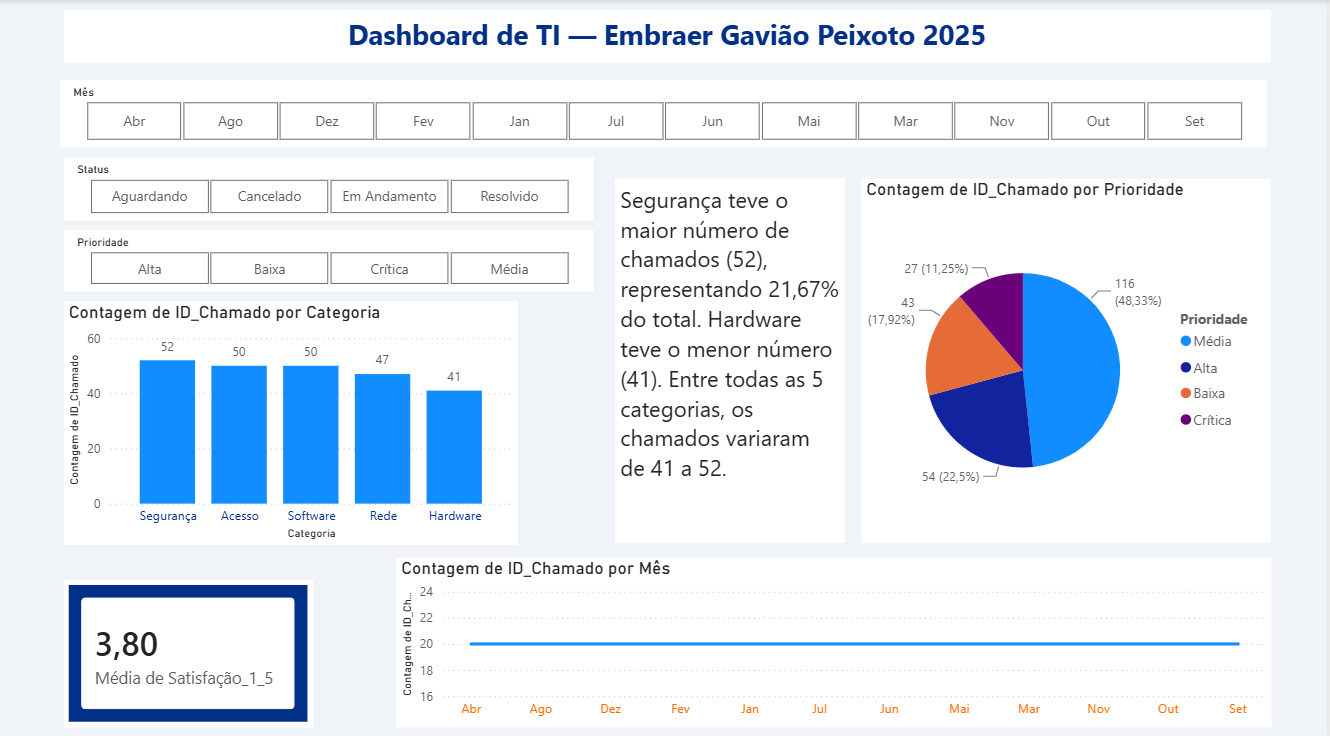

This screenshot's page, from the dashboard's own definition file:
{"tool":"powerbi","page":{"name":"Página 1","canvas":[1280,720],"ordinal":0},"visuals":[{"type":"columnChart","fields":{"Category":["CONTROLE DE CHAMADOS DE TI – EMBRAER GAVIÃO PEIXOTO (2025) (Chamados_TI).Categoria"],"Y":["CountNonNull(CONTROLE DE CHAMADOS DE TI – EMBRAER GAVIÃO PEIXOTO (2025) (Chamados_TI).ID_Chamado)"]},"box":[61.9,290.5,438.4,235.3],"z":0},{"type":"textbox","box":[593.1,172.1,221.9,351],"z":1},{"type":"lineChart","fields":{"Category":["CONTROLE DE CHAMADOS DE TI – EMBRAER GAVIÃO PEIXOTO (2025) (Chamados_TI).Mês"],"Y":["CountNonNull(CONTROLE DE CHAMADOS DE TI – EMBRAER GAVIÃO PEIXOTO (2025) (Chamados_TI).ID_Chamado)"]},"box":[381.9,537.9,844.5,164.1],"z":2},{"type":"pieChart","fields":{"Category":["CONTROLE DE CHAMADOS DE TI – EMBRAER GAVIÃO PEIXOTO (2025) (Chamados_TI).Prioridade"],"Y":["CountNonNull(CONTROLE DE CHAMADOS DE TI – EMBRAER GAVIÃO PEIXOTO (2025) (Chamados_TI).ID_Chamado)"]},"box":[831.1,172.1,395.4,351],"z":3},{"type":"cardVisual","fields":{"Data":["Avg(CONTROLE DE CHAMADOS DE TI – EMBRAER GAVIÃO PEIXOTO (2025) (Chamados_TI).Satisfação_1_5)"]},"box":[61.9,559.4,240.7,142.6],"z":4},{"type":"textbox","box":[61.9,9.4,1164.6,51.1],"z":5},{"type":"slicer","fields":{"Values":["CONTROLE DE CHAMADOS DE TI – EMBRAER GAVIÃO PEIXOTO (2025) (Chamados_TI).Mês"]},"box":[61.9,79.3,1164.6,64.6],"z":6},{"type":"slicer","fields":{"Values":["CONTROLE DE CHAMADOS DE TI – EMBRAER GAVIÃO PEIXOTO (2025) (Chamados_TI).Prioridade"]},"box":[61.9,221.9,511,59.2],"z":7},{"type":"slicer","fields":{"Values":["CONTROLE DE CHAMADOS DE TI – EMBRAER GAVIÃO PEIXOTO (2025) (Chamados_TI).Status"]},"box":[61.9,152,511,60.5],"z":8}]}

Visuals, with their boxes in screenshot pixels (x1, y1, x2, y2), scaled from the page's 1280x720 canvas onto the 1330x736 screenshot:
columnChart - CONTROLE DE CHAMADOS DE TI – EMBRAER GAVIÃO PEIXOTO (2025) (Chamados_TI).Categoria x CountNonNull(CONTROLE DE CHAMADOS DE TI – EMBRAER GAVIÃO PEIXOTO (2025) (Chamados_TI).ID_Chamado): box(64, 297, 520, 537)
textbox: box(616, 176, 847, 535)
lineChart - CONTROLE DE CHAMADOS DE TI – EMBRAER GAVIÃO PEIXOTO (2025) (Chamados_TI).Mês x CountNonNull(CONTROLE DE CHAMADOS DE TI – EMBRAER GAVIÃO PEIXOTO (2025) (Chamados_TI).ID_Chamado): box(397, 550, 1274, 718)
pieChart - CONTROLE DE CHAMADOS DE TI – EMBRAER GAVIÃO PEIXOTO (2025) (Chamados_TI).Prioridade x CountNonNull(CONTROLE DE CHAMADOS DE TI – EMBRAER GAVIÃO PEIXOTO (2025) (Chamados_TI).ID_Chamado): box(864, 176, 1274, 535)
cardVisual - Avg(CONTROLE DE CHAMADOS DE TI – EMBRAER GAVIÃO PEIXOTO (2025) (Chamados_TI).Satisfação_1_5): box(64, 572, 314, 718)
textbox: box(64, 10, 1274, 62)
slicer - CONTROLE DE CHAMADOS DE TI – EMBRAER GAVIÃO PEIXOTO (2025) (Chamados_TI).Mês: box(64, 81, 1274, 147)
slicer - CONTROLE DE CHAMADOS DE TI – EMBRAER GAVIÃO PEIXOTO (2025) (Chamados_TI).Prioridade: box(64, 227, 595, 287)
slicer - CONTROLE DE CHAMADOS DE TI – EMBRAER GAVIÃO PEIXOTO (2025) (Chamados_TI).Status: box(64, 155, 595, 217)
